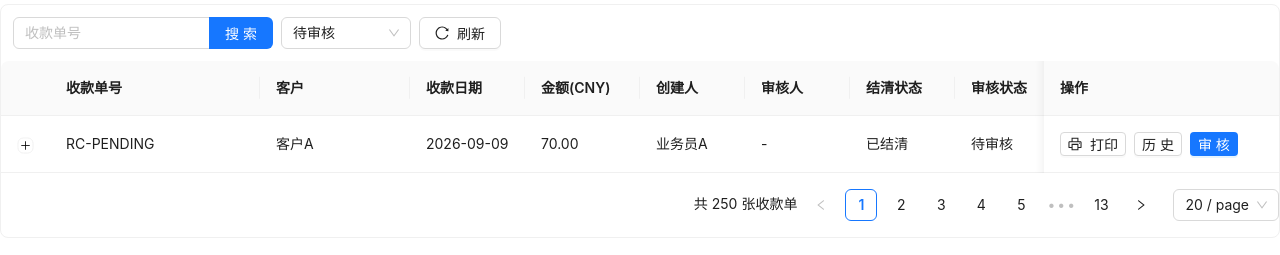
Test case: receipt audit paginates on the server beyond 200 receipts
The image size is (1280, 255).
Expected: the text "RC-PENDING" is shown, [50,116,260,173]
Expected: the list item "共 250 张收款单" is shown, [694,195,797,212]
Click the list item titled "2". click: (901, 205)
box: [885,189,917,221]
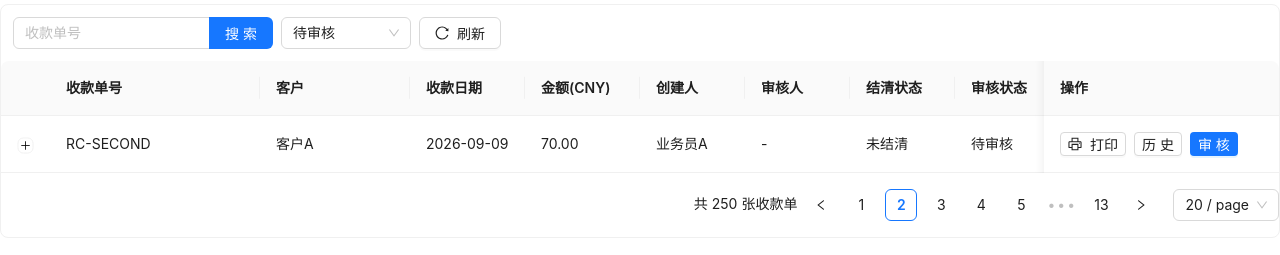
Expected: the text "RC-SECOND" is shown, [50,116,260,173]
Expected: the text "RC-PENDING" is gone
